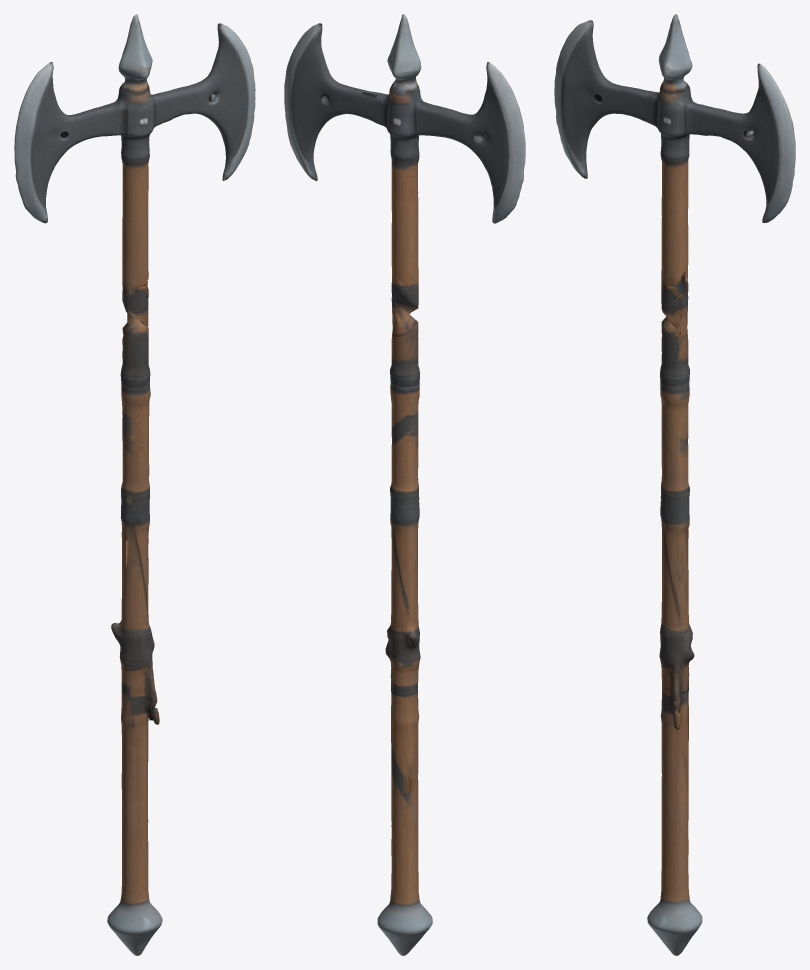
File: double_edge_axe.glb
The picture shows the model from 3 angles, left to right: view 1: azimuth 30°, elevation 25°; view 2: azimuth 150°, elevation 25°; view 3: azimuth 330°, elevation 25°; orthographic projection.
Size of the model in its own units: 0.5357 by 2 by 0.1023.
1 material, 1 textured.
